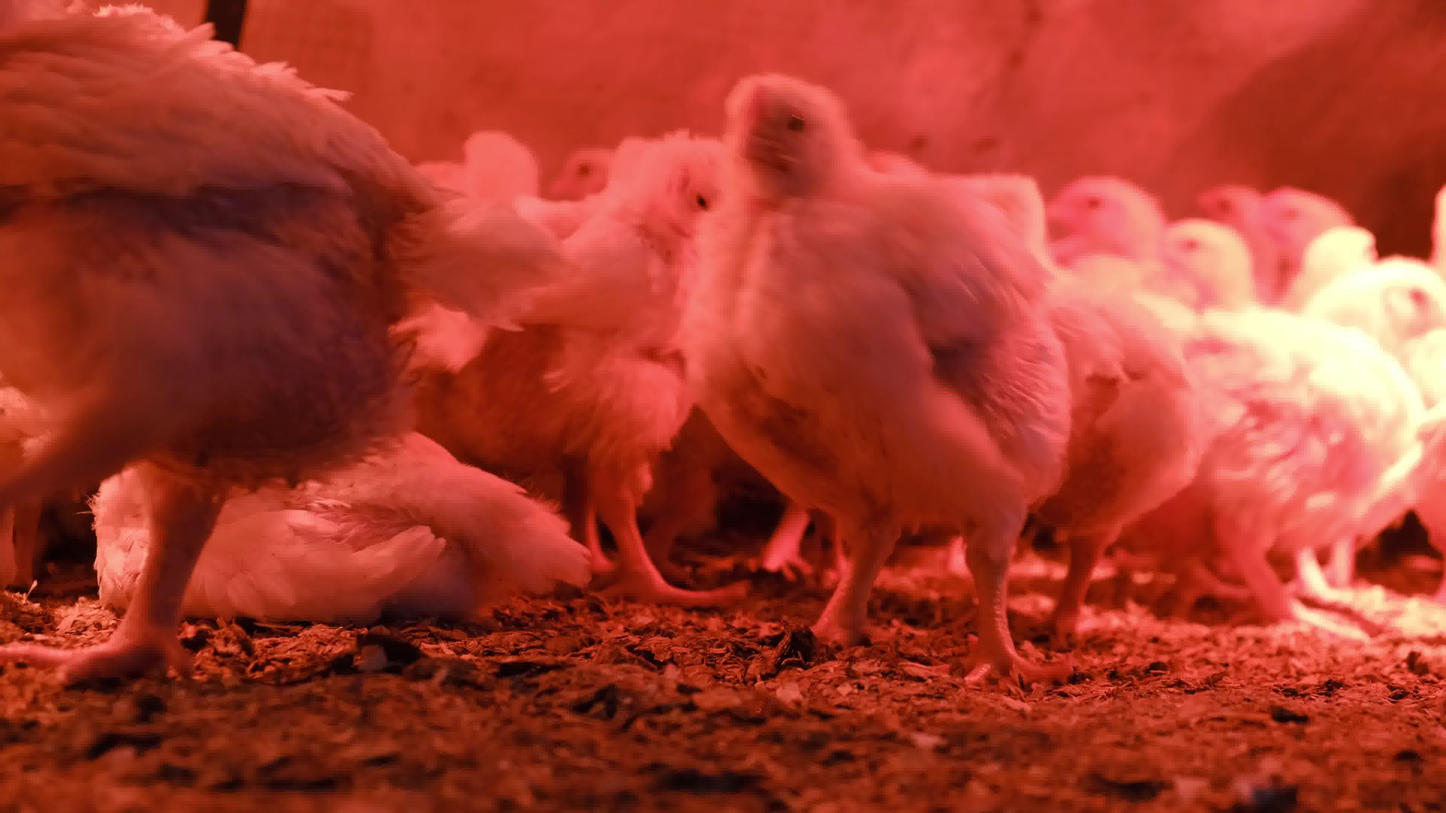AbNormal: (88, 398, 597, 621)
Normal: (0, 0, 570, 696), (686, 74, 1079, 687), (420, 136, 758, 628), (949, 172, 1203, 654), (1201, 254, 1446, 655), (1045, 177, 1212, 349), (1162, 217, 1274, 325), (1290, 226, 1384, 318), (1260, 183, 1346, 259), (552, 136, 632, 210), (1202, 185, 1271, 252)
